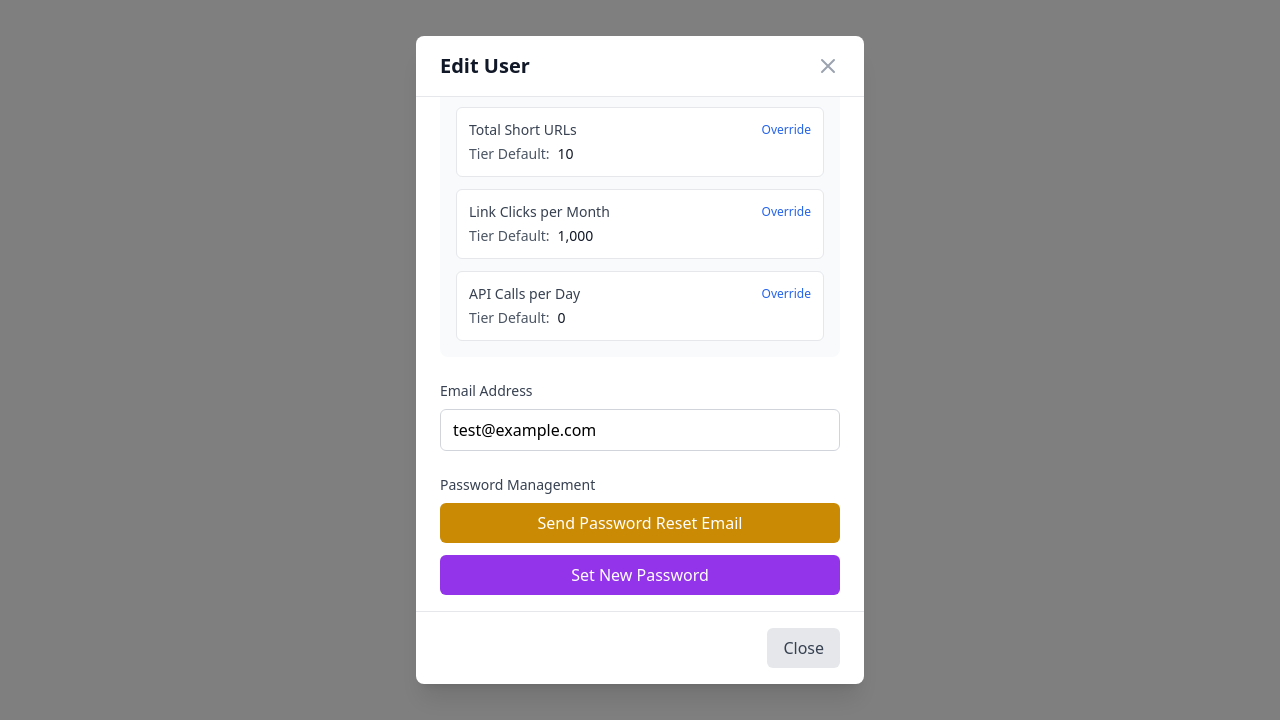
UserEditModal › Email validation rejects invalid formats › should show error for empty email
The image size is (1280, 720).
(page scrolled)
Clear the field labelled "Email Address": [640, 430] box top-left (440, 409), bottom-right (840, 451)
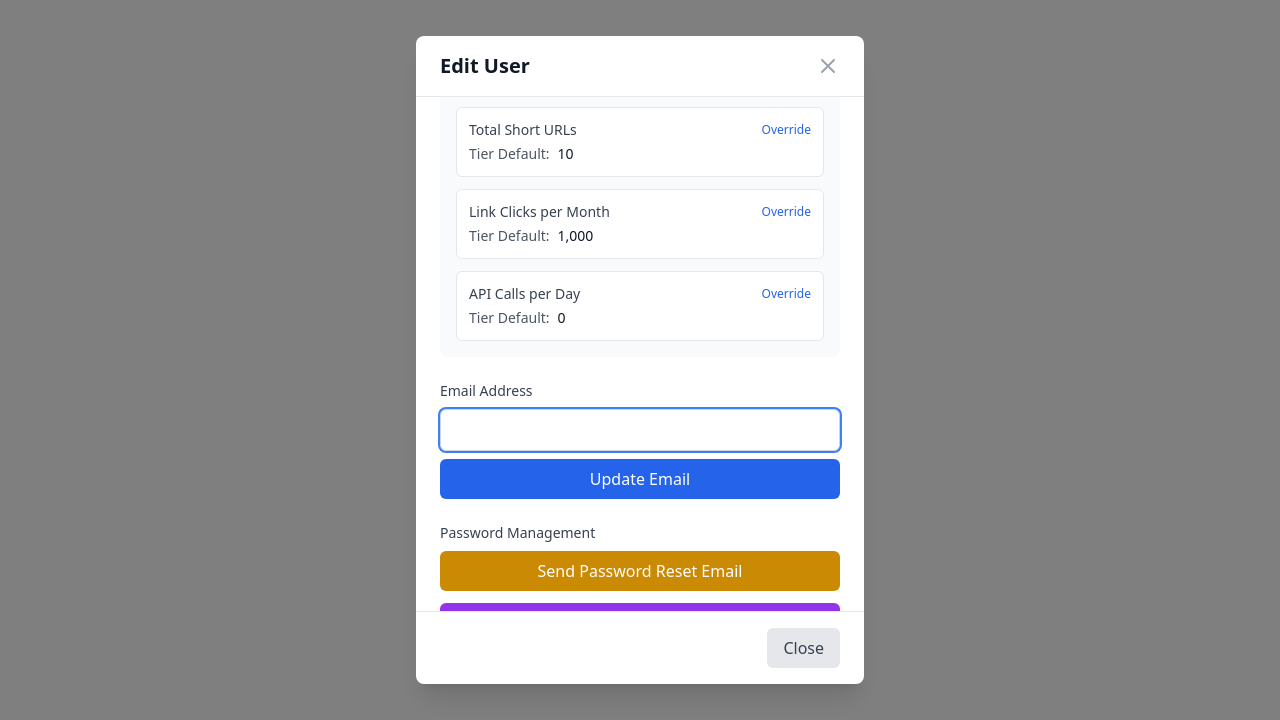
Click the button "Update Email": [640, 479] box top-left (440, 459), bottom-right (840, 499)
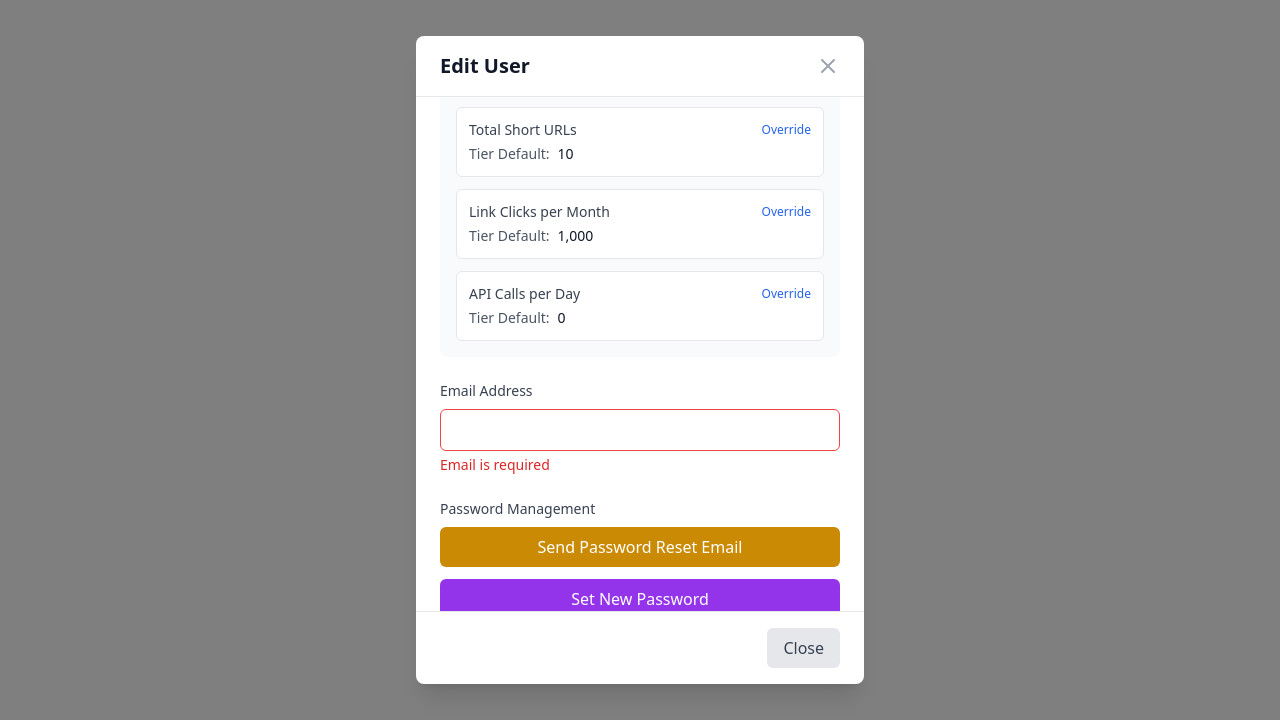
Expected: the text "Email is required" is shown, top-left (440, 455), bottom-right (550, 474)
